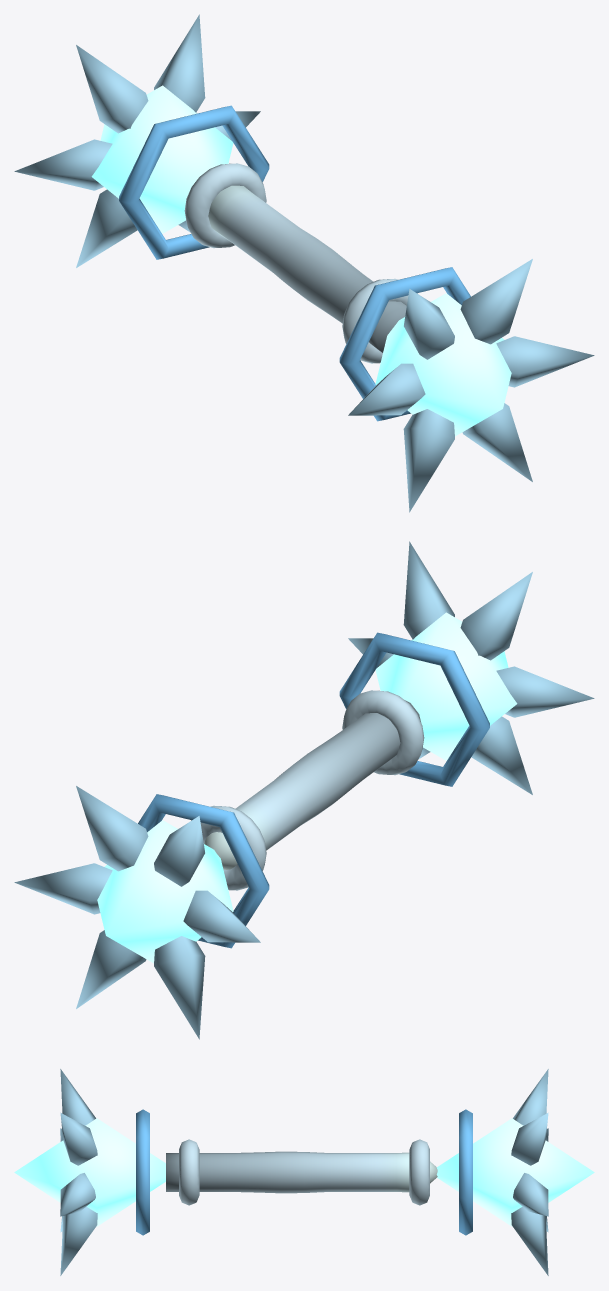
Rendered from CrystalDumbbell.glb.
3 renders of one model, top to bottom at view 1: azimuth 30°, elevation 25°; view 2: azimuth 150°, elevation 25°; view 3: azimuth 270°, elevation 25°, orthographic. The views are drawn at different scales.
Visible parts, largest first — view 1: CrystalDumbbell, CrystalDumbbell_Glow; view 2: CrystalDumbbell, CrystalDumbbell_Glow; view 3: CrystalDumbbell, CrystalDumbbell_Glow.
Part boxes in pixels (x1=…): CrystalDumbbell: x1=14, y1=14, x2=594, y2=512; CrystalDumbbell_Glow: x1=91, y1=85, x2=511, y2=436; CrystalDumbbell: x1=14, y1=541, x2=594, y2=1039; CrystalDumbbell_Glow: x1=97, y1=612, x2=517, y2=963; CrystalDumbbell: x1=60, y1=1069, x2=548, y2=1275; CrystalDumbbell_Glow: x1=14, y1=1118, x2=594, y2=1226.
Size of the model in its own units: 0.9061 by 0.7847 by 2.52.
2 materials, 1 textured.
